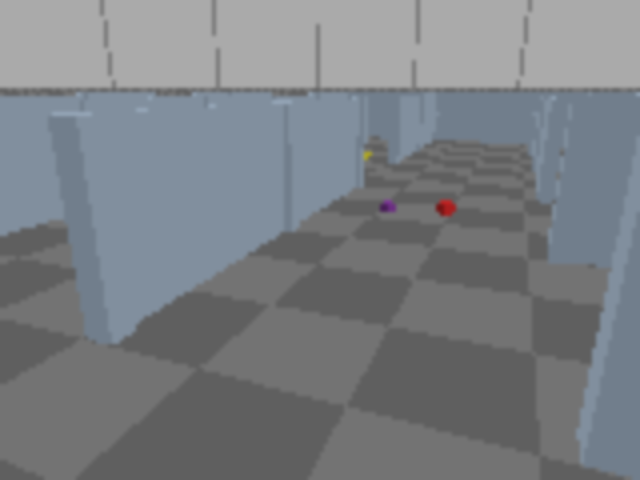puck: (437, 200, 455, 215)
